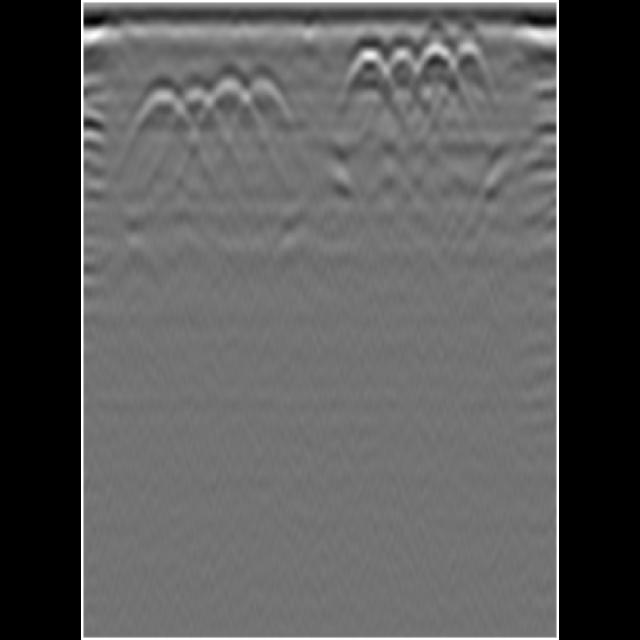hyperbola: (138, 84, 178, 148), (212, 72, 254, 128), (176, 81, 218, 135), (451, 34, 494, 86), (242, 76, 288, 122), (382, 44, 426, 88), (417, 36, 457, 82), (348, 44, 384, 94)
